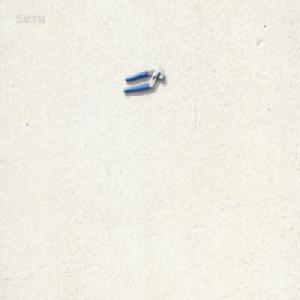Pliers: (122, 65, 166, 94)
